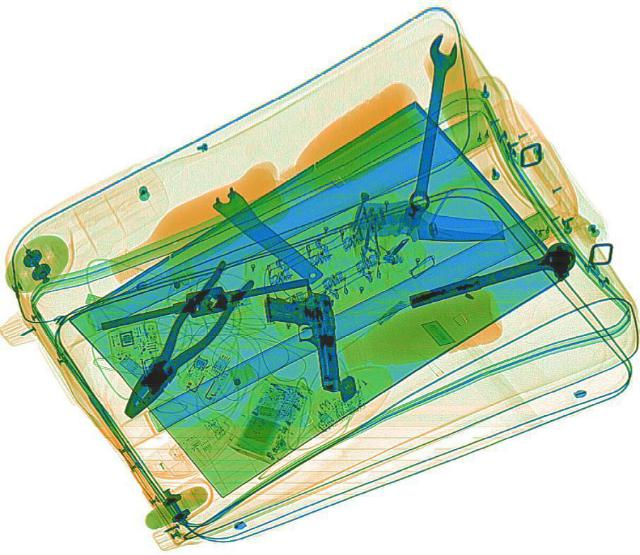Gun: (263, 288, 341, 392)
Pliers: (107, 257, 261, 426)
Wrench: (402, 31, 460, 212)
